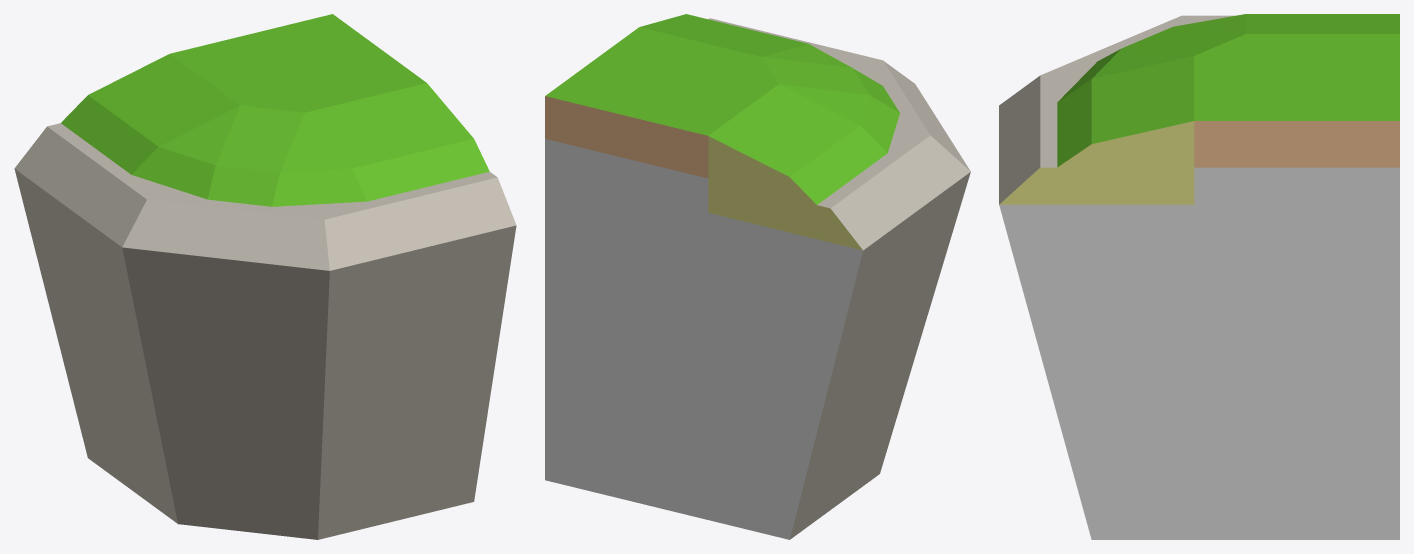
The model's file is Basic_Curve_Outer_2x2_Narrow_Top.glb.
3 views of the same model, side by side, from view 1: azimuth 30°, elevation 25°; view 2: azimuth 150°, elevation 25°; view 3: azimuth 270°, elevation 25° (orthographic). The views are drawn at different scales.
Visible parts, largest first — view 1: Basic_Curve_Outer_2x2_Narrow_Top; view 2: Basic_Curve_Outer_2x2_Narrow_Top; view 3: Basic_Curve_Outer_2x2_Narrow_Top.
Boxes of the visible parts, bbox=[...] form: Basic_Curve_Outer_2x2_Narrow_Top: bbox=[14, 14, 516, 539]; Basic_Curve_Outer_2x2_Narrow_Top: bbox=[545, 14, 970, 539]; Basic_Curve_Outer_2x2_Narrow_Top: bbox=[999, 14, 1399, 539].
Size of the model in its own units: 195 by 225 by 195.
